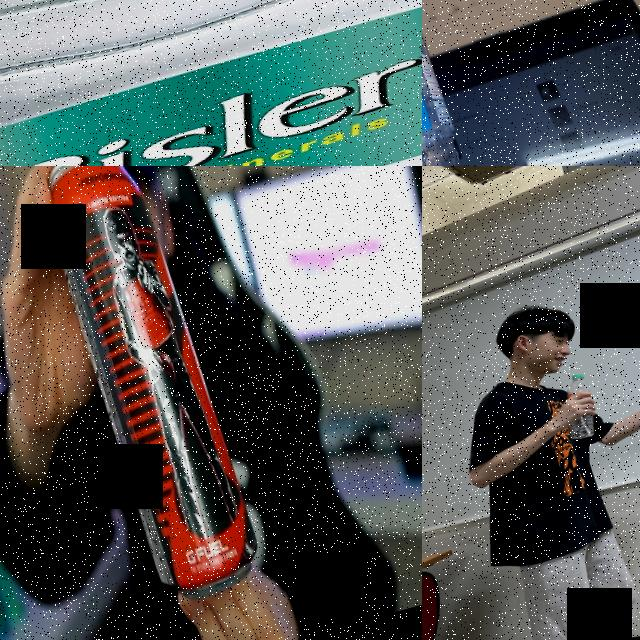bottle: (0, 0, 422, 166), (422, 0, 544, 166), (552, 370, 604, 443)
can: (29, 166, 271, 615)
